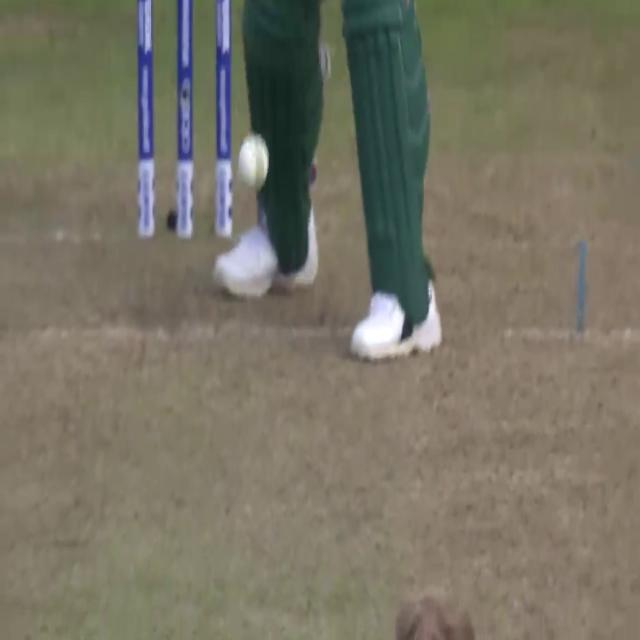ball: (238, 127, 272, 194)
